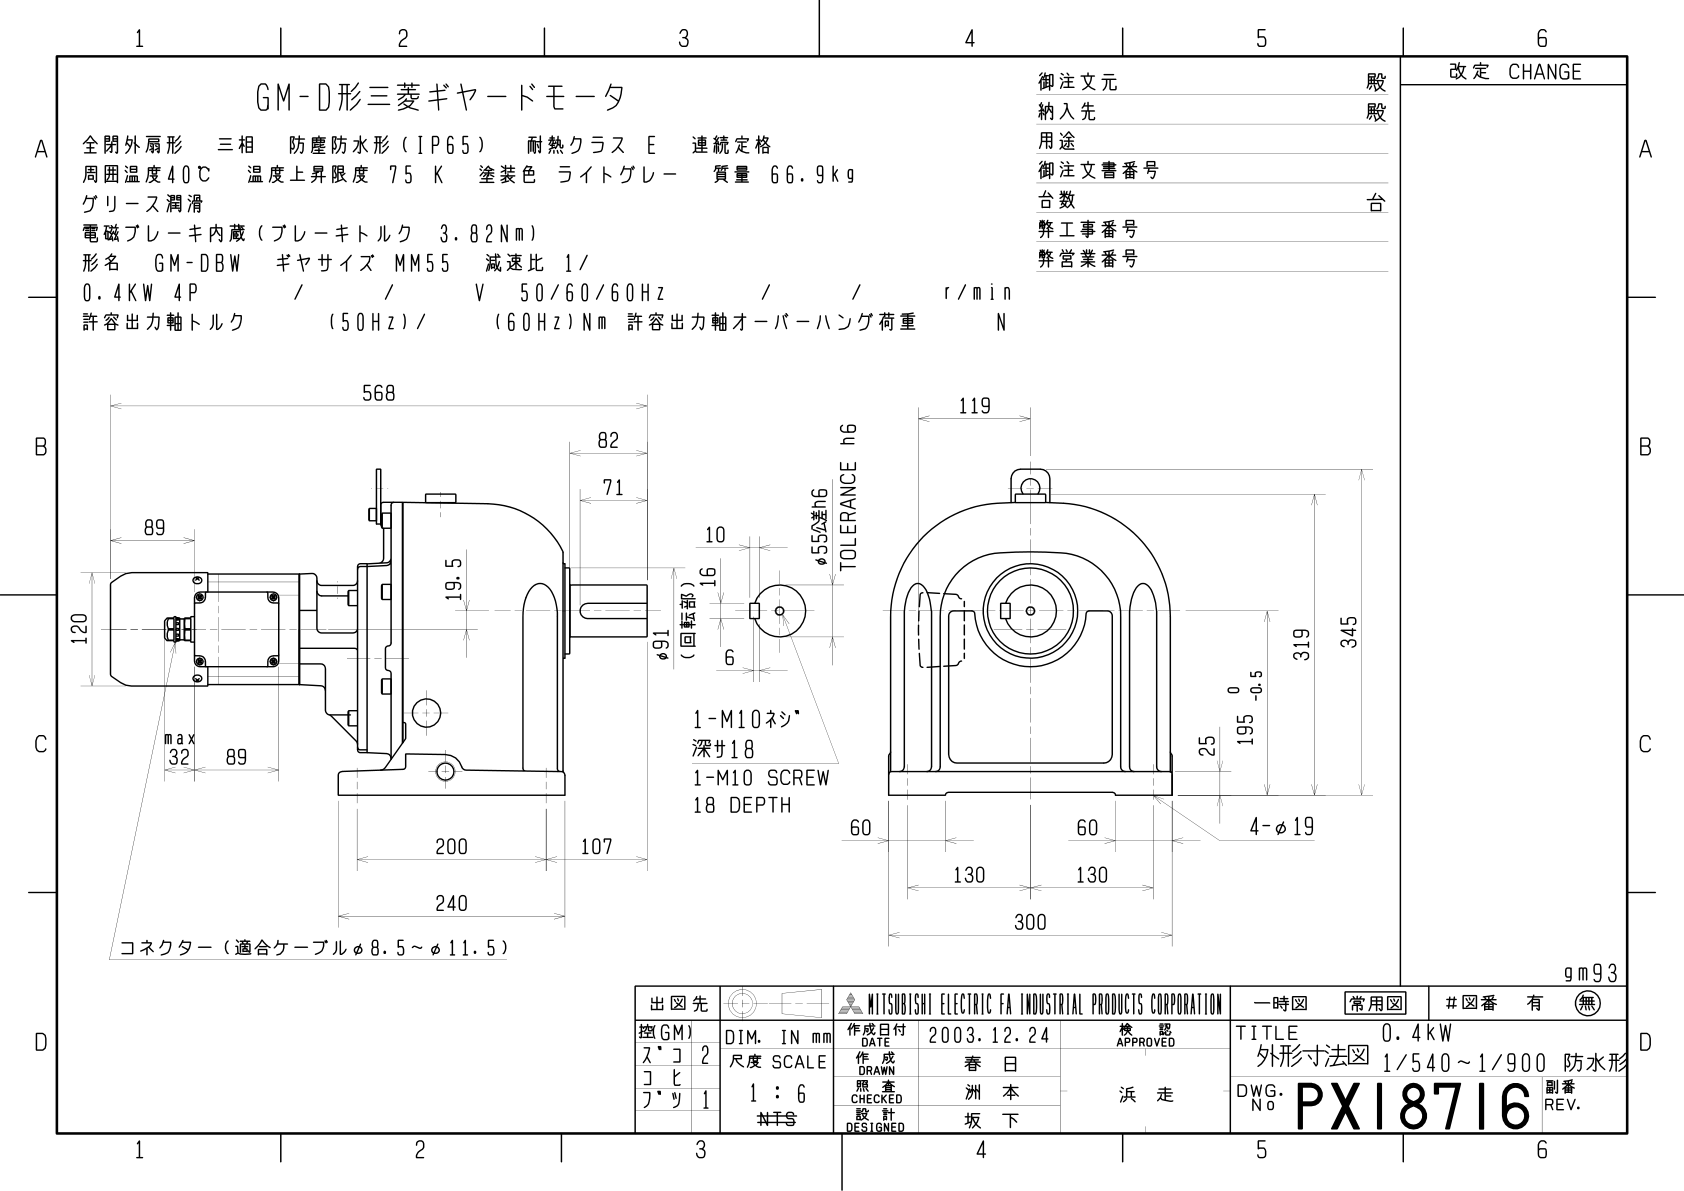GM_D_IP65_三相_脚: (8, 6, 1684, 1191)
